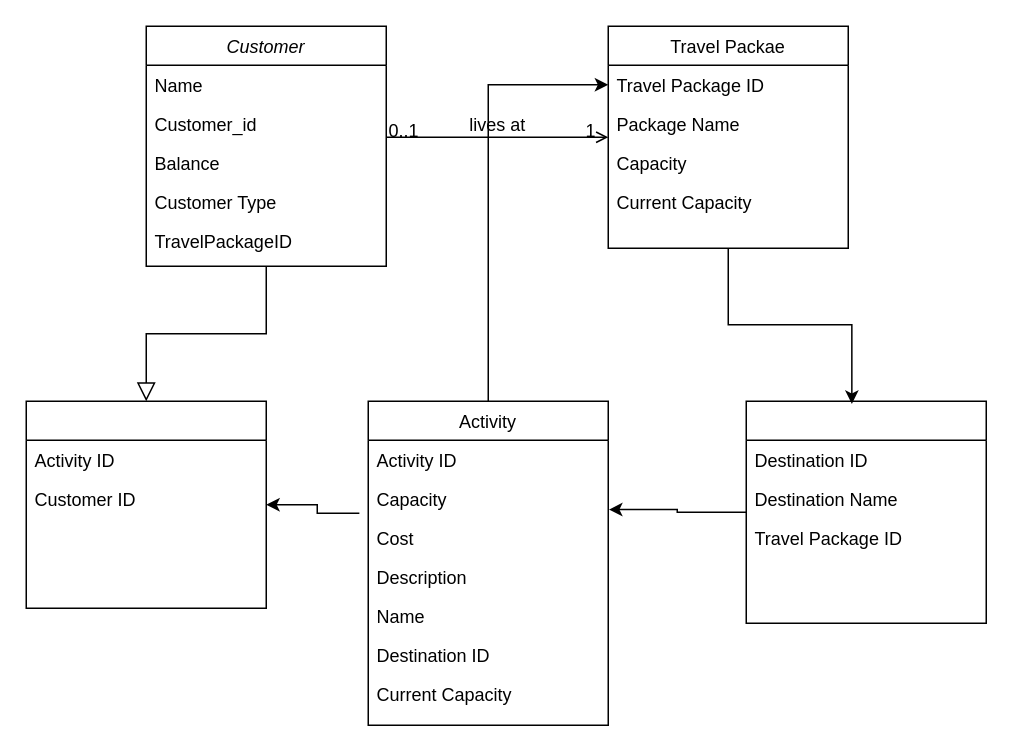
Some shapes in this 1013 by 752 pixel diagram are drawn without their labels. The box of each missing label's shape, as (x1, y1, x2, y2) in pixels:
Customer Activity: (25, 400, 266, 608)
Destinations: (745, 400, 986, 623)
